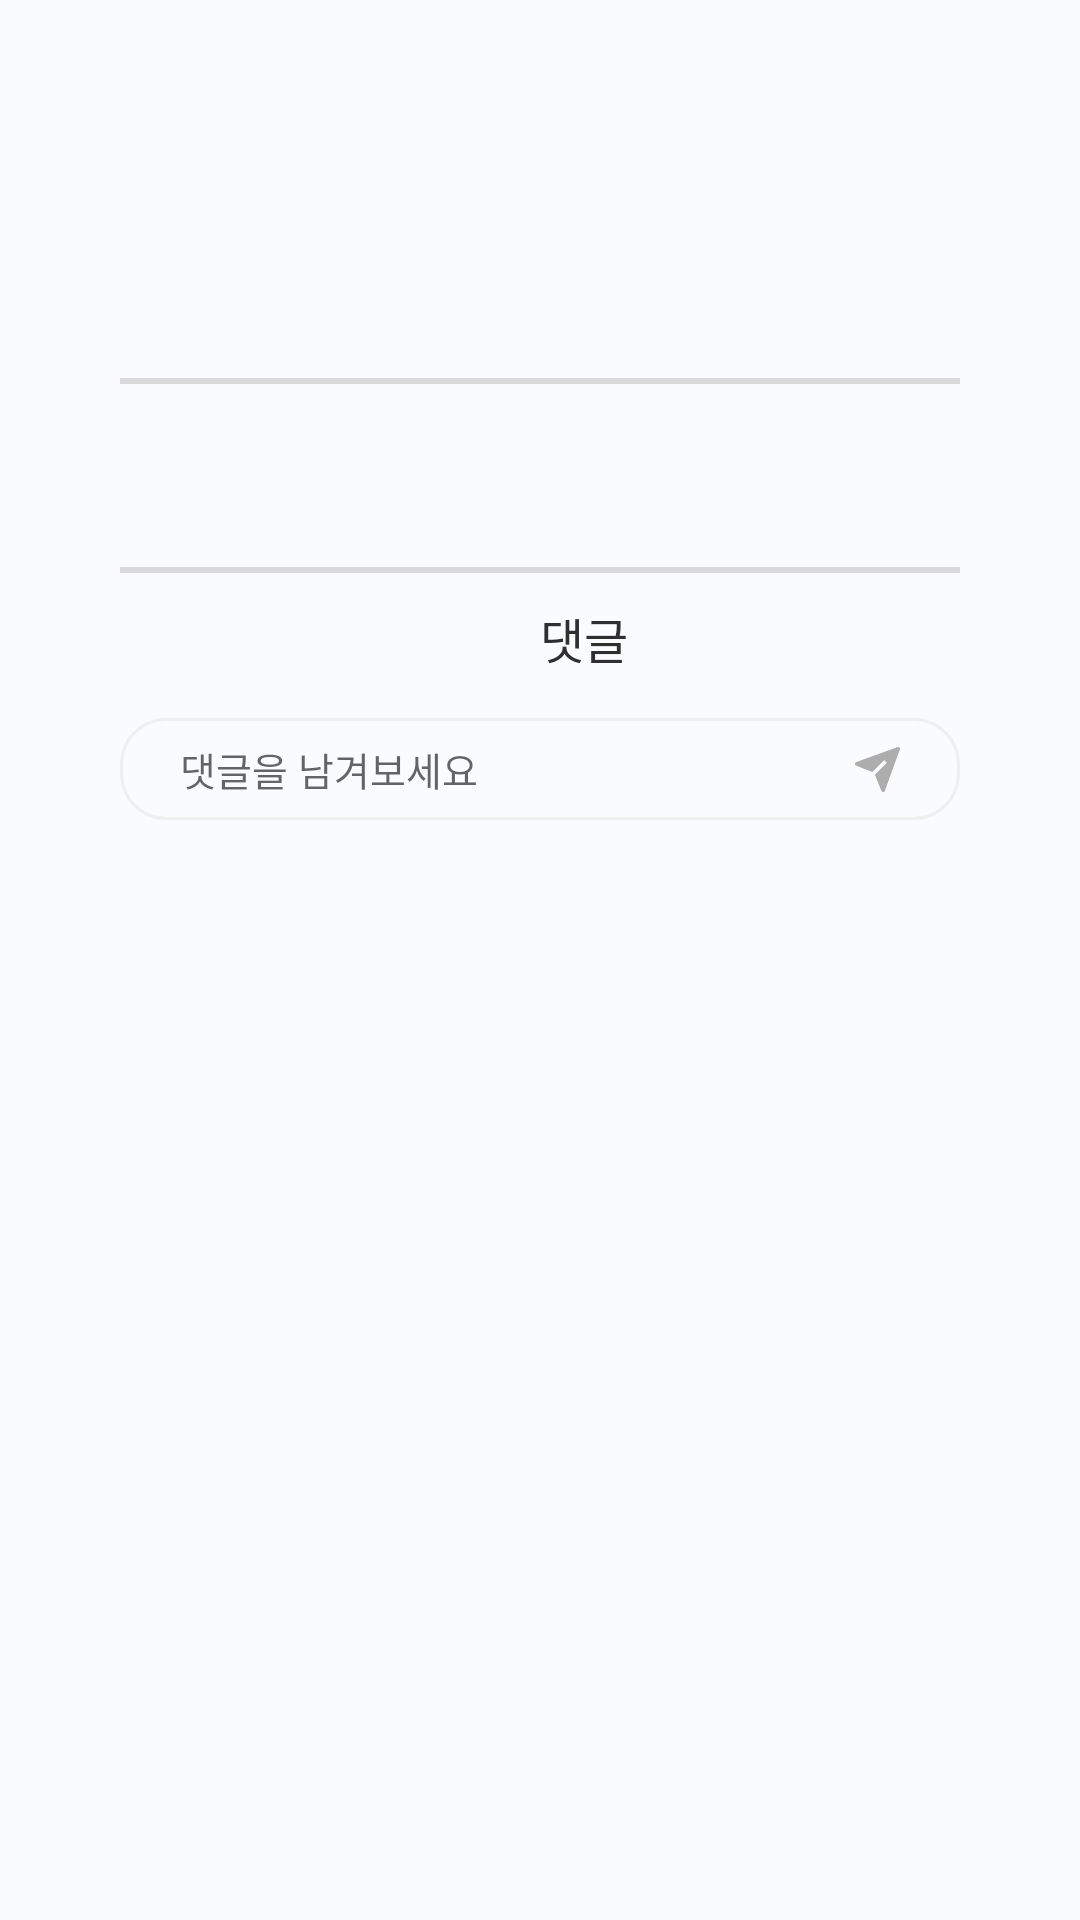

Where to tap for icons on this 1080px×1920px app screen, as [x,y]:
send: [877,769]
